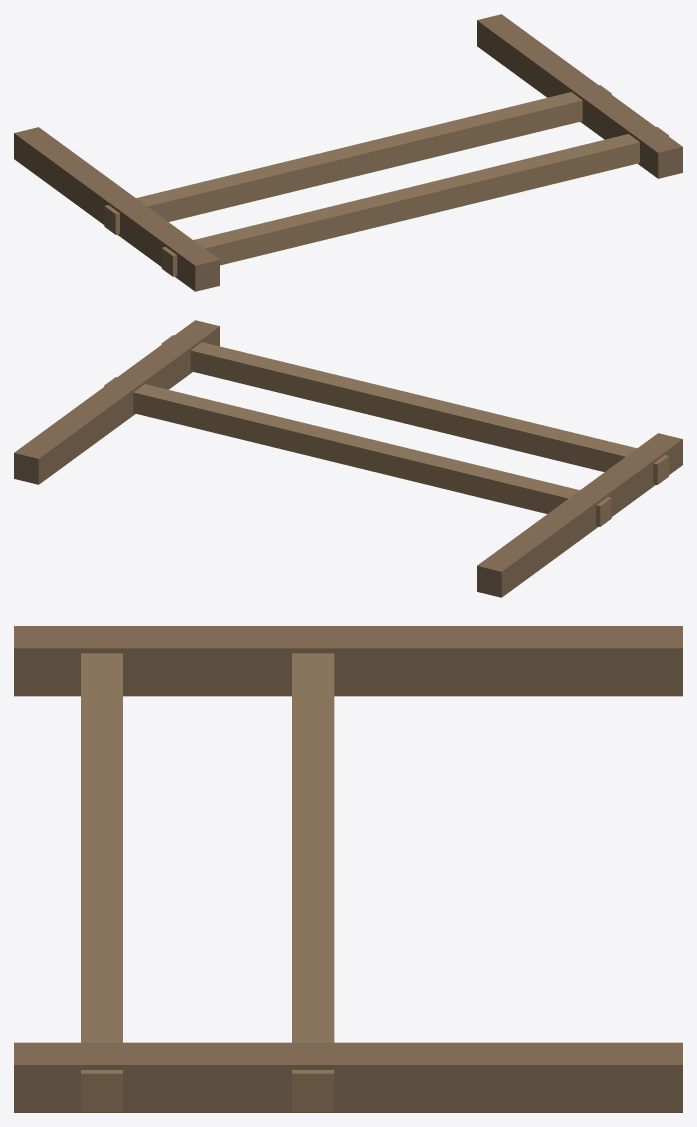
File: wood_fence_section.glb
The picture shows the model from 3 angles, top to bottom: view 1: azimuth 30°, elevation 25°; view 2: azimuth 150°, elevation 25°; view 3: azimuth 270°, elevation 25°; orthographic projection. The views are drawn at different scales.
Visible parts, largest first — view 1: rail2, rail1, post1, post2; view 2: rail2, rail1, post1, post2; view 3: post2, post1, rail1, rail2.
Boxes of the visible parts, box(x1,y1,x2,y2) form: rail2: box(161, 127, 668, 276); rail1: box(104, 85, 611, 234); post1: box(14, 127, 219, 291); post2: box(477, 14, 682, 178); rail2: box(161, 335, 668, 484); rail1: box(104, 377, 611, 526); post1: box(477, 433, 682, 597); post2: box(14, 320, 219, 484); post2: box(14, 1042, 682, 1112); post1: box(14, 626, 682, 696); rail1: box(292, 653, 334, 1111); rail2: box(81, 653, 122, 1111).
Bounding box in the file's own units: 3 × 0.15 × 1.9.
